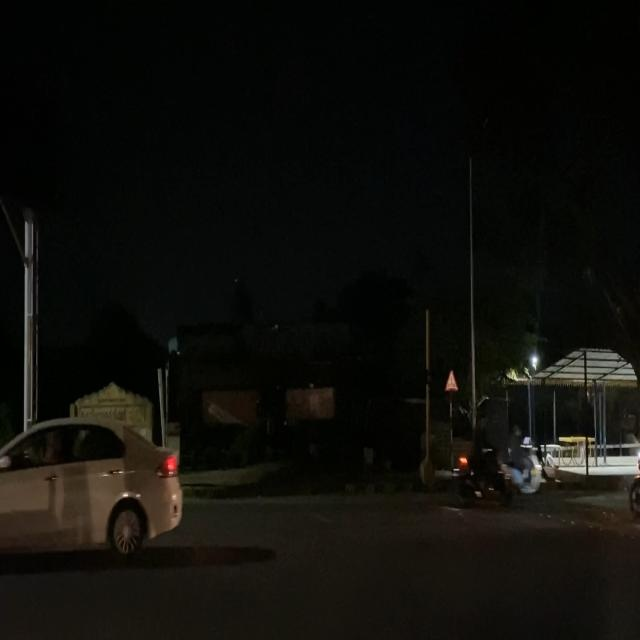bien_cam: (444, 364, 459, 396)
